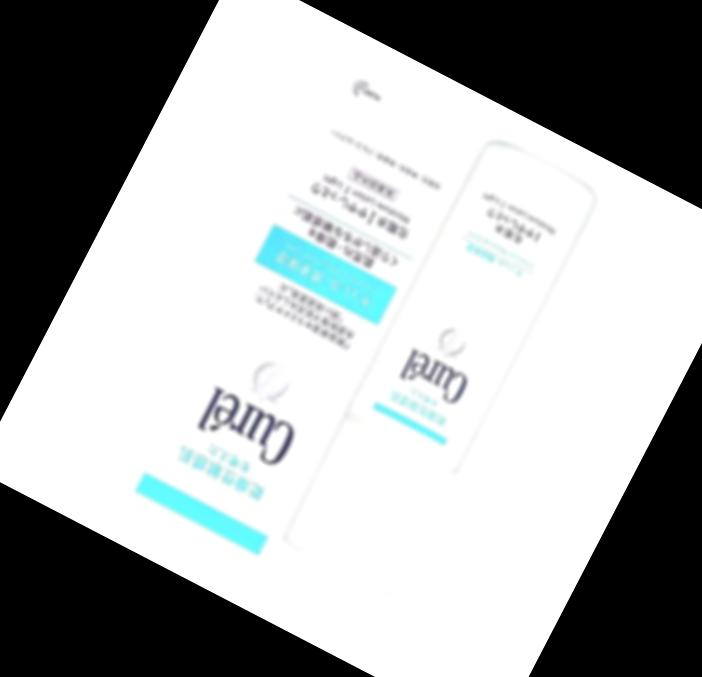cosmetic: (276, 142, 596, 598)
